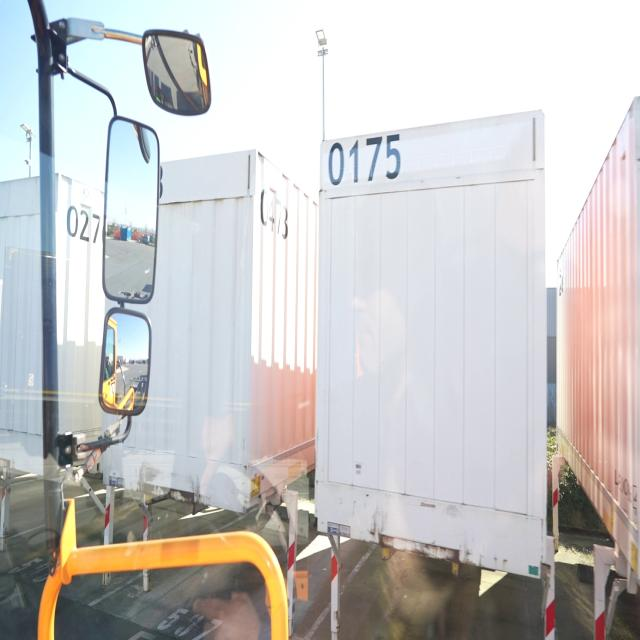Code: (323, 128, 412, 196), (256, 176, 297, 251)
